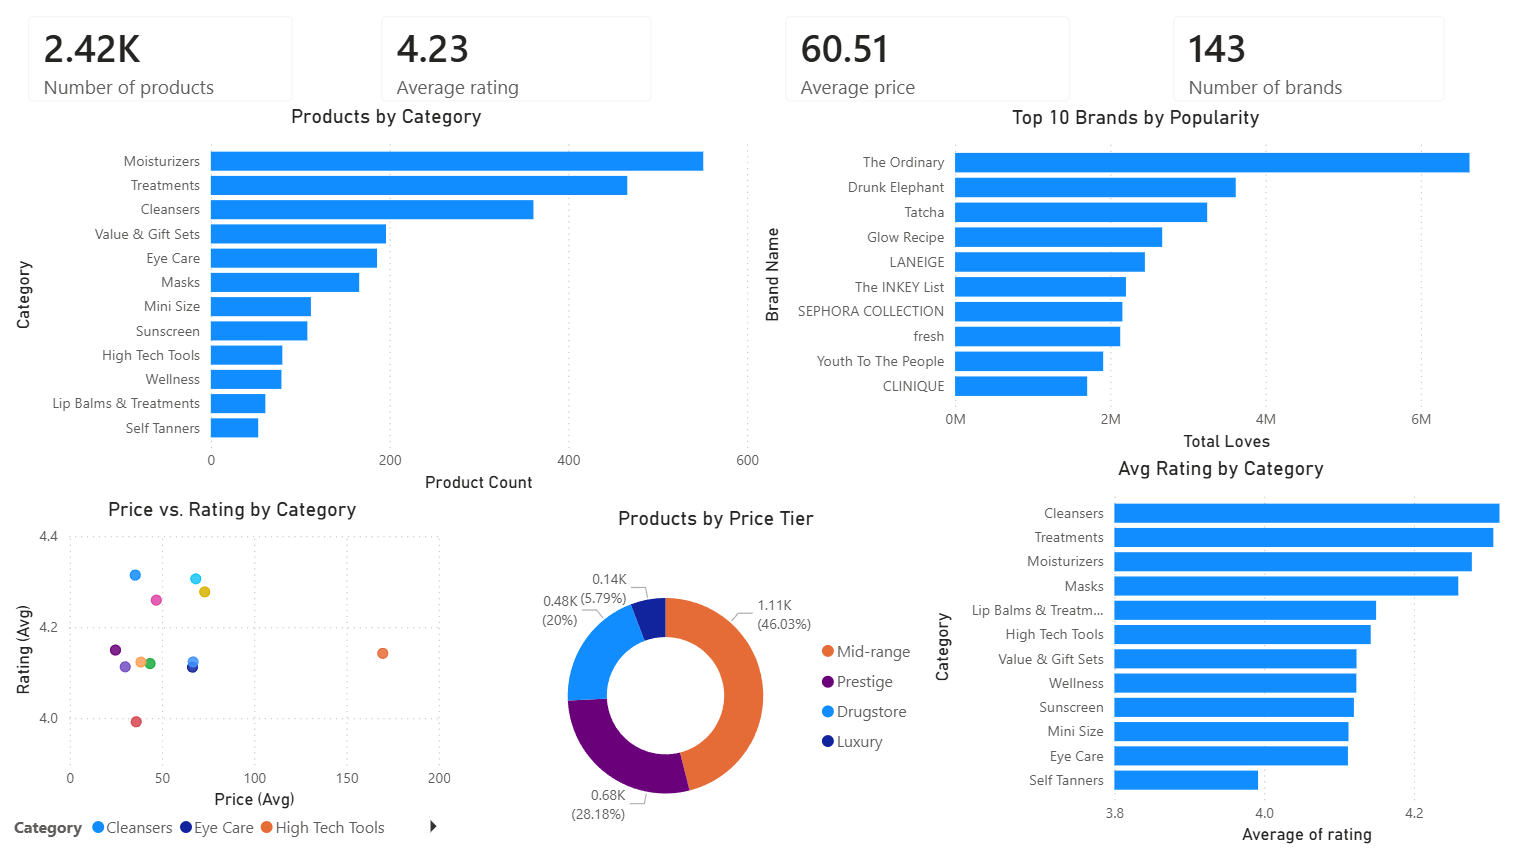

The page's visual inventory and layout, read from the dashboard file:
{"tool":"powerbi","page":{"name":"Page 1","canvas":[1280,720],"ordinal":0},"visuals":[{"type":"cardVisual","fields":{"Data":["CountNonNull(product_info.product_id)"]},"box":[9.6,0,257.5,106.1],"z":0},{"type":"cardVisual","fields":{"Data":["Avg(product_info.rating)"]},"box":[306.7,0,262.4,106.1],"z":1000},{"type":"cardVisual","fields":{"Data":["Avg(product_info.price_usd)"]},"box":[647.2,0,274.9,106.1],"z":2000},{"type":"cardVisual","fields":{"Data":["Count(product_info.brand_name)"]},"box":[974.2,0,263.3,106.1],"z":3000},{"type":"clusteredBarChart","title":"Products by Category","fields":{"Category":["product_info.secondary_category"],"Y":["CountNonNull(product_info.product_id)"]},"box":[9.6,91.3,638.1,331.5],"z":4000},{"type":"clusteredBarChart","title":"Top 10 Brands by Popularity","fields":{"Category":["product_info.brand_name"],"Y":["Sum(product_info.loves_count)"]},"box":[641,92.3,639,296],"z":5000},{"type":"scatterChart","title":"Price vs. Rating by Category","fields":{"X":["Avg(product_info.price_usd)"],"Y":["Avg(product_info.rating)"],"Series":["product_info.secondary_category"]},"box":[9.6,422.5,378.1,297.1],"z":6000},{"type":"donutChart","title":"Products by Price Tier","fields":{"Category":["product_info.price_tier"],"Y":["CountNonNull(product_info.product_id)"]},"box":[427.2,429.9,357.3,300.9],"z":7000},{"type":"clusteredBarChart","title":"Avg Rating by Category","fields":{"Category":["product_info.secondary_category"],"Y":["Avg(product_info.rating)"]},"box":[784.5,388.2,495.7,331.8],"z":8000}]}

Visuals, with their boxes in screenshot pixels (x1, y1, x2, y2), scaled from the page's 1280x720 canvas onto the 1513x848 screenshot:
cardVisual - CountNonNull(product_info.product_id): (11,0,316,125)
cardVisual - Avg(product_info.rating): (363,0,673,125)
cardVisual - Avg(product_info.price_usd): (765,0,1090,125)
cardVisual - Count(product_info.brand_name): (1152,0,1463,125)
"Products by Category" clusteredBarChart: (11,108,766,498)
"Top 10 Brands by Popularity" clusteredBarChart: (758,109,1512,457)
"Price vs. Rating by Category" scatterChart: (11,498,458,847)
"Products by Price Tier" donutChart: (505,506,927,847)
"Avg Rating by Category" clusteredBarChart: (927,457,1512,847)
